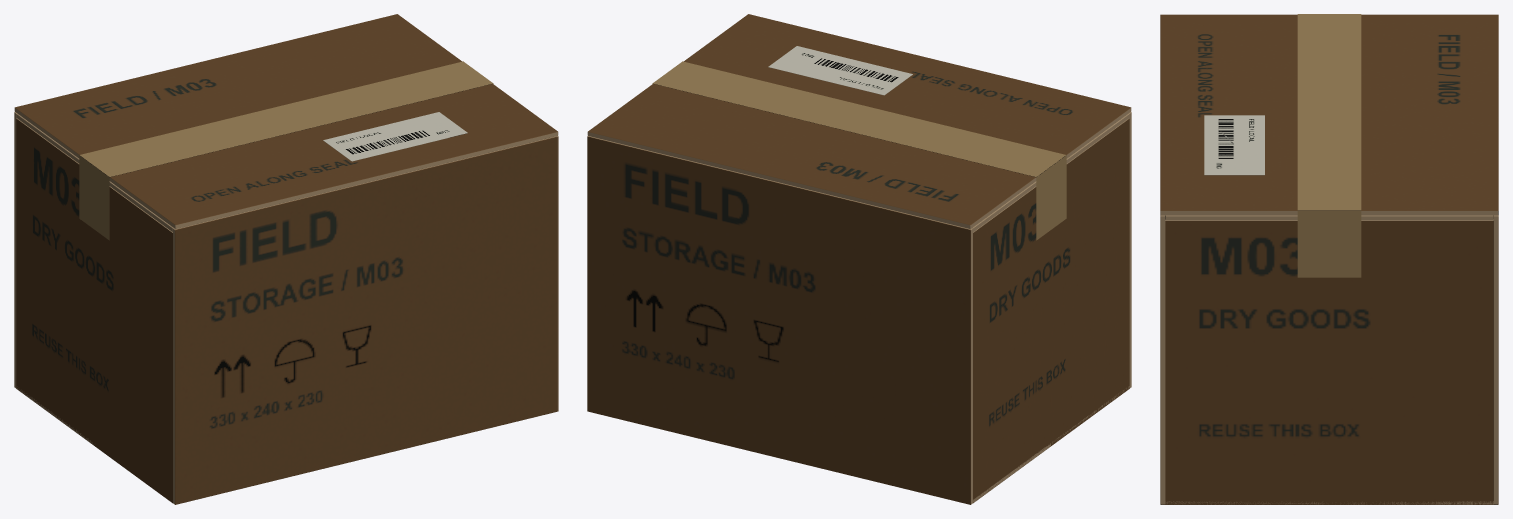
File: MediumBox_LOD0.fbx
The picture shows the model from 3 angles, left to right: view 1: azimuth 30°, elevation 25°; view 2: azimuth 150°, elevation 25°; view 3: azimuth 270°, elevation 25°; orthographic projection. The views are drawn at different scales.
Visible parts, largest first — view 1: Body_LOD0, FlapFront_LOD0, FlapRear_LOD0, SealTape_LOD0, FlapLeft_LOD0; view 2: Body_LOD0, FlapRear_LOD0, FlapFront_LOD0, SealTape_LOD0, FlapLeft_LOD0; view 3: Body_LOD0, FlapFront_LOD0, FlapRear_LOD0, SealTape_LOD0, FlapRight_LOD0.
Part boxes in pixels (x1,y1,x2,y2): Body_LOD0: [14, 112, 558, 504]; FlapFront_LOD0: [109, 84, 558, 228]; FlapRear_LOD0: [14, 14, 461, 158]; SealTape_LOD0: [79, 61, 493, 240]; FlapLeft_LOD0: [16, 113, 173, 231]; Body_LOD0: [587, 112, 1131, 504]; FlapRear_LOD0: [587, 84, 1036, 228]; FlapFront_LOD0: [684, 14, 1131, 158]; SealTape_LOD0: [652, 61, 1066, 240]; FlapLeft_LOD0: [972, 113, 1129, 231]; Body_LOD0: [1160, 215, 1498, 504]; FlapFront_LOD0: [1160, 14, 1297, 215]; FlapRear_LOD0: [1361, 14, 1498, 215]; SealTape_LOD0: [1297, 14, 1361, 277]; FlapRight_LOD0: [1165, 215, 1493, 220].
Bounding box in the file's own units: 0.3304 × 0.2302 × 0.24.
